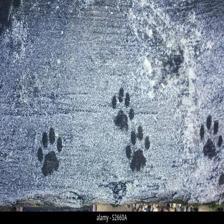cat: (31, 128, 66, 177), (120, 127, 153, 174), (196, 114, 224, 159), (110, 84, 136, 130)
